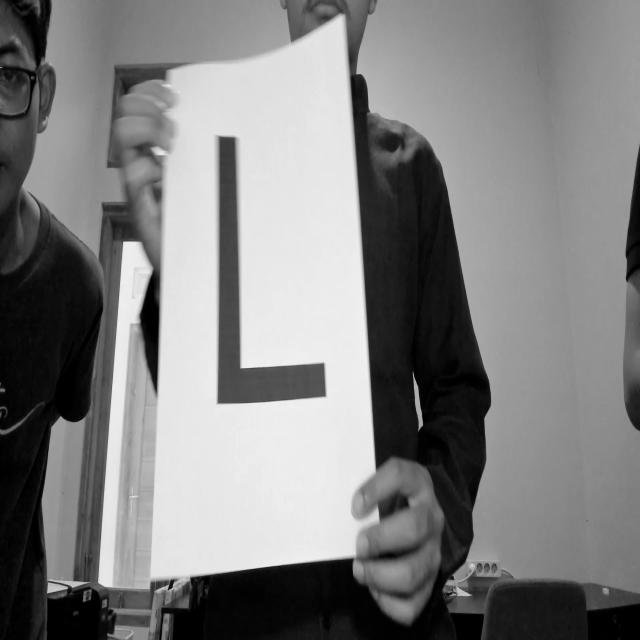l: (185, 101, 340, 459)
